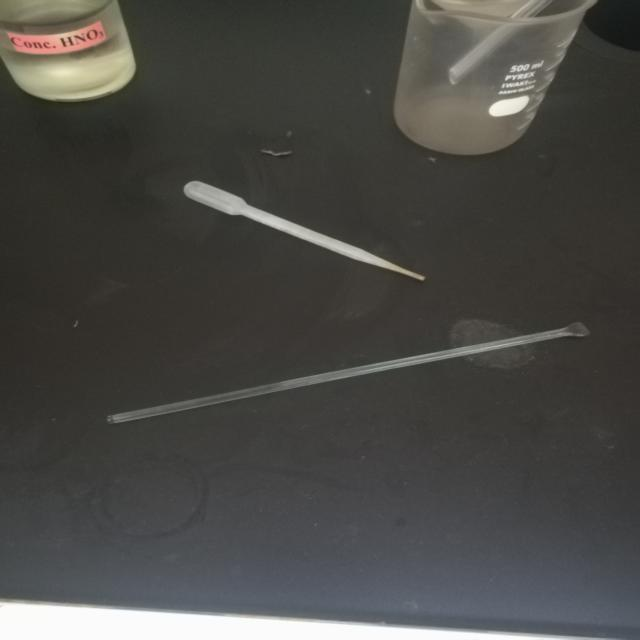Glass_Rod: (67, 266, 618, 446)
Pipette: (170, 160, 447, 301)
